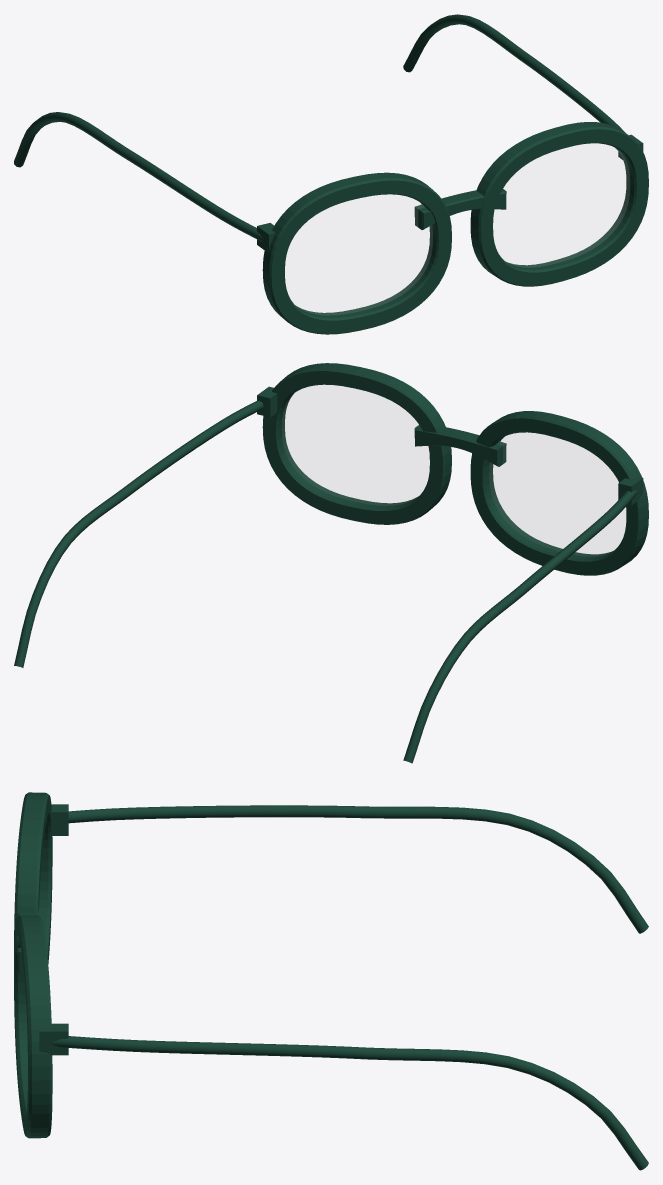
Rendered from NY-W06_Rhea_Bottle_green.glb.
3 renders of one model, top to bottom at view 1: azimuth 30°, elevation 25°; view 2: azimuth 150°, elevation 25°; view 3: azimuth 270°, elevation 25°, orthographic. The views are drawn at different scales.
Parts seen in each view (by area): view 1: Rhea_Bottle_green_Acetate, Rhea_Bottle_green_Lenses; view 2: Rhea_Bottle_green_Acetate, Rhea_Bottle_green_Lenses; view 3: Rhea_Bottle_green_Acetate.
Boxes of the visible parts, x1,y1,x2,y2 form: Rhea_Bottle_green_Acetate: [14, 14, 648, 334]; Rhea_Bottle_green_Lenses: [285, 144, 629, 314]; Rhea_Bottle_green_Acetate: [14, 363, 648, 763]; Rhea_Bottle_green_Lenses: [282, 385, 625, 555]; Rhea_Bottle_green_Acetate: [14, 792, 648, 1170].
Size of the model in its own units: 0.1394 by 0.0484 by 0.1507.
